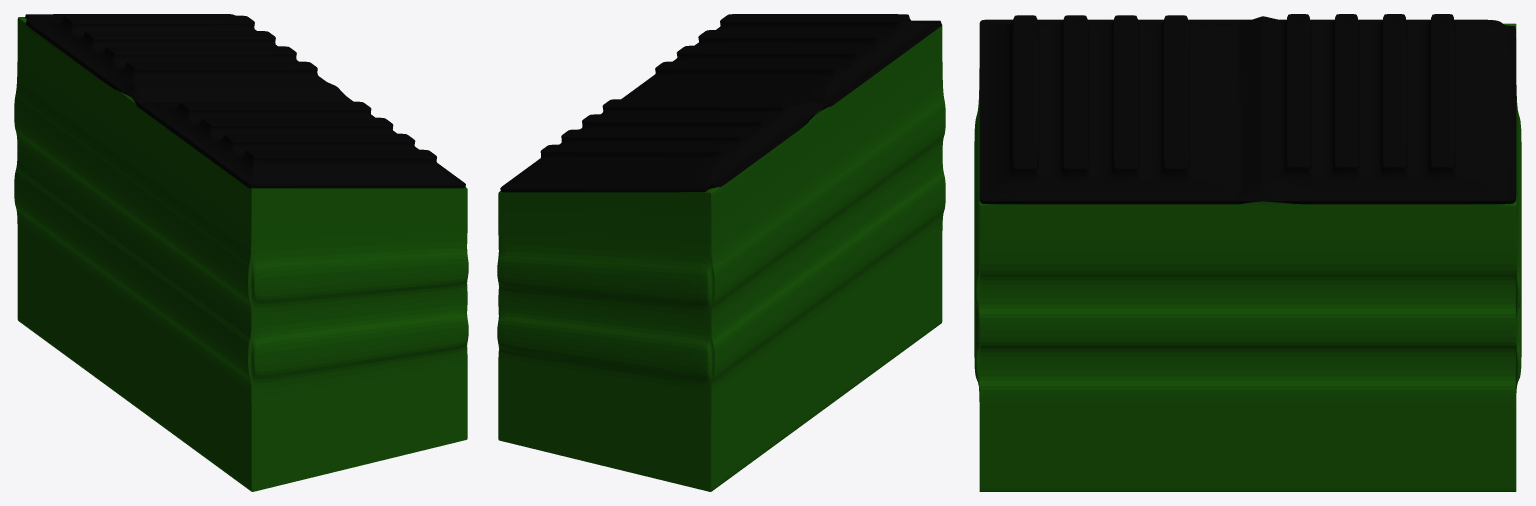
File: Green_Container.fbx
3 renders of one model, left to right at view 1: azimuth 30°, elevation 25°; view 2: azimuth 150°, elevation 25°; view 3: azimuth 270°, elevation 25°, orthographic. The views are drawn at different scales.
Visible parts, largest first — view 1: Bottom, Top; view 2: Bottom, Top; view 3: Bottom, Top.
Part boxes in pixels (left/top/right/bottom): Bottom: left=14, top=17, right=468, bottom=491; Top: left=25, top=14, right=465, bottom=188; Bottom: left=497, top=24, right=945, bottom=491; Top: left=500, top=14, right=941, bottom=192; Bottom: left=974, top=23, right=1521, bottom=491; Top: left=979, top=14, right=1516, bottom=204.
Bounding box in the file's own units: 246 × 343 × 462.
